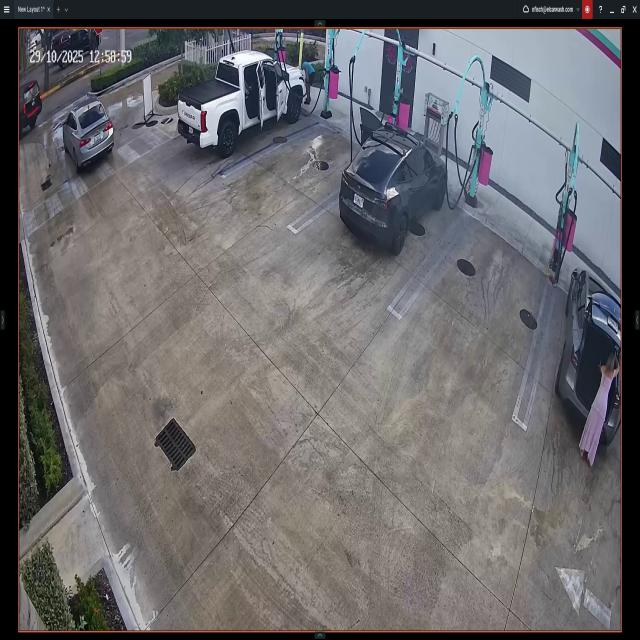Car: (178, 48, 304, 157), (339, 123, 447, 249), (560, 268, 621, 446), (62, 96, 115, 170), (18, 80, 46, 131)
